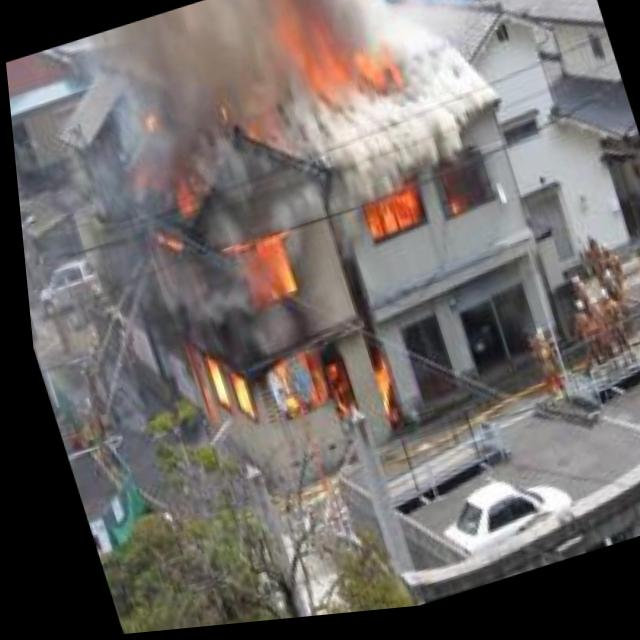Fire: (105, 116, 402, 490), (255, 0, 409, 126), (349, 188, 434, 252)
